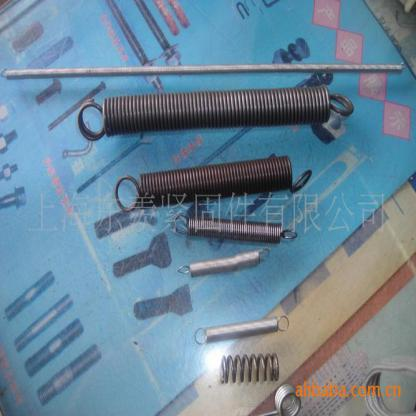FOD: (75, 81, 356, 144), (114, 152, 313, 216), (173, 212, 298, 245), (193, 312, 290, 349), (176, 245, 271, 282), (217, 352, 281, 386), (262, 384, 303, 415)
